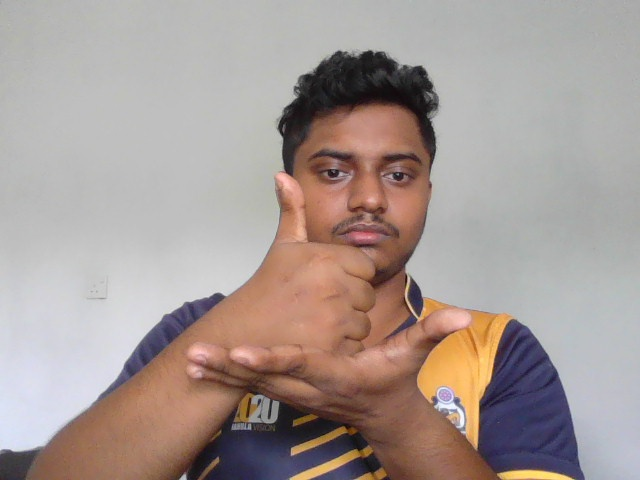Help: (183, 171, 473, 416)
